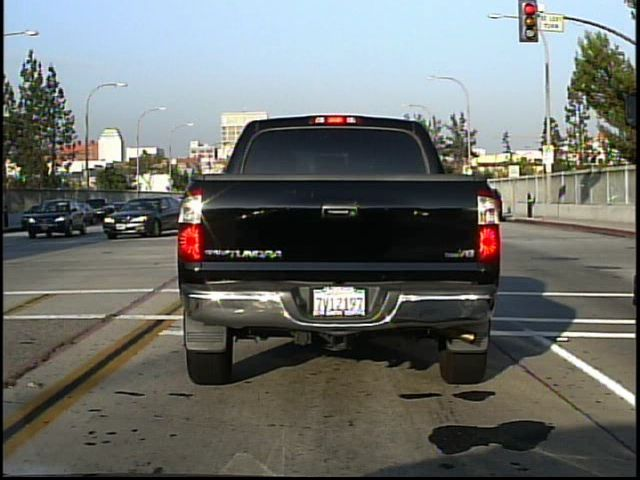car: (168, 91, 513, 419), (22, 202, 83, 247), (104, 192, 165, 237)
